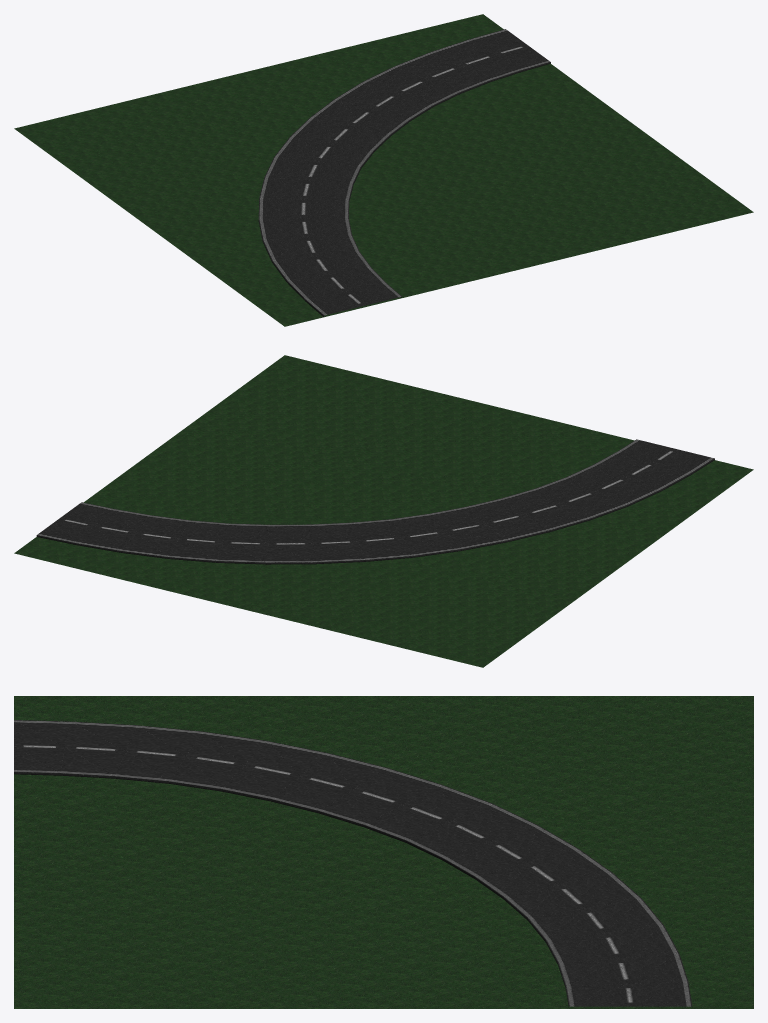
File: road_curve_90deg_20m.obj
The picture shows the model from 3 angles, top to bottom: view 1: azimuth 30°, elevation 25°; view 2: azimuth 150°, elevation 25°; view 3: azimuth 270°, elevation 25°; orthographic projection. The views are drawn at different scales.
Parts seen in each view (by area): view 1: Plane, Plane.002, Plane.008, Plane.005, Plane.007, Plane.003, Plane.006, Plane.004, Plane.001, Plane.009; view 2: Plane, Plane.002, Plane.008, Plane.005, Plane.007, Plane.006, Plane.003, Plane.004, Plane.001, Plane.009; view 3: Plane, Plane.008, Plane.002, Plane.005, Plane.007, Plane.006, Plane.003, Plane.004, Plane.009, Plane.001.
Part boxes in pixels (x1,y1,x2,y2): Plane: (258, 29, 550, 316); Plane.002: (351, 184, 597, 288); Plane.008: (417, 80, 663, 184); Plane.005: (14, 90, 260, 194); Plane.007: (507, 146, 753, 250); Plane.003: (104, 156, 350, 260); Plane.006: (170, 52, 416, 156); Plane.004: (261, 118, 506, 222); Plane.001: (195, 222, 440, 326); Plane.009: (327, 14, 572, 118); Plane: (36, 439, 714, 564); Plane.002: (351, 393, 597, 496); Plane.008: (104, 421, 350, 524); Plane.005: (327, 563, 572, 667); Plane.007: (195, 355, 440, 459); Plane.006: (170, 559, 416, 629); Plane.003: (417, 519, 663, 601); Plane.004: (262, 459, 505, 563); Plane.001: (510, 431, 753, 535); Plane.009: (14, 487, 254, 591); Plane: (14, 720, 692, 1007); Plane.008: (260, 904, 507, 1008); Plane.002: (14, 800, 260, 904); Plane.005: (507, 696, 753, 800); Plane.007: (14, 904, 260, 1008); Plane.006: (507, 800, 753, 904); Plane.003: (260, 696, 507, 800); Plane.004: (260, 800, 507, 904); Plane.009: (507, 904, 753, 1008); Plane.001: (14, 696, 260, 800).
Bounding box in the file's own units: 30 × 0.1 × 30.
